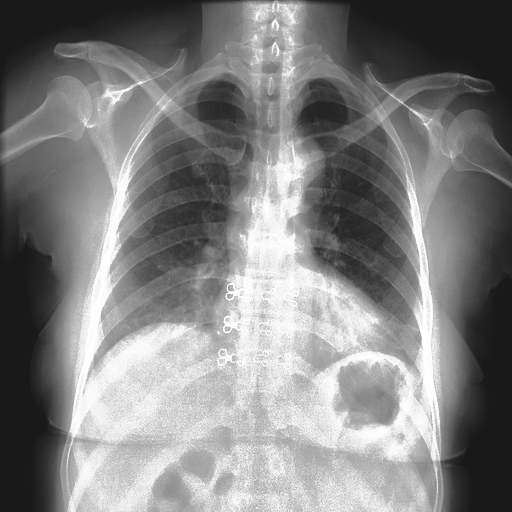Consolidation: (283, 137, 325, 200)
Nodule/Mass: (208, 268, 392, 348)
